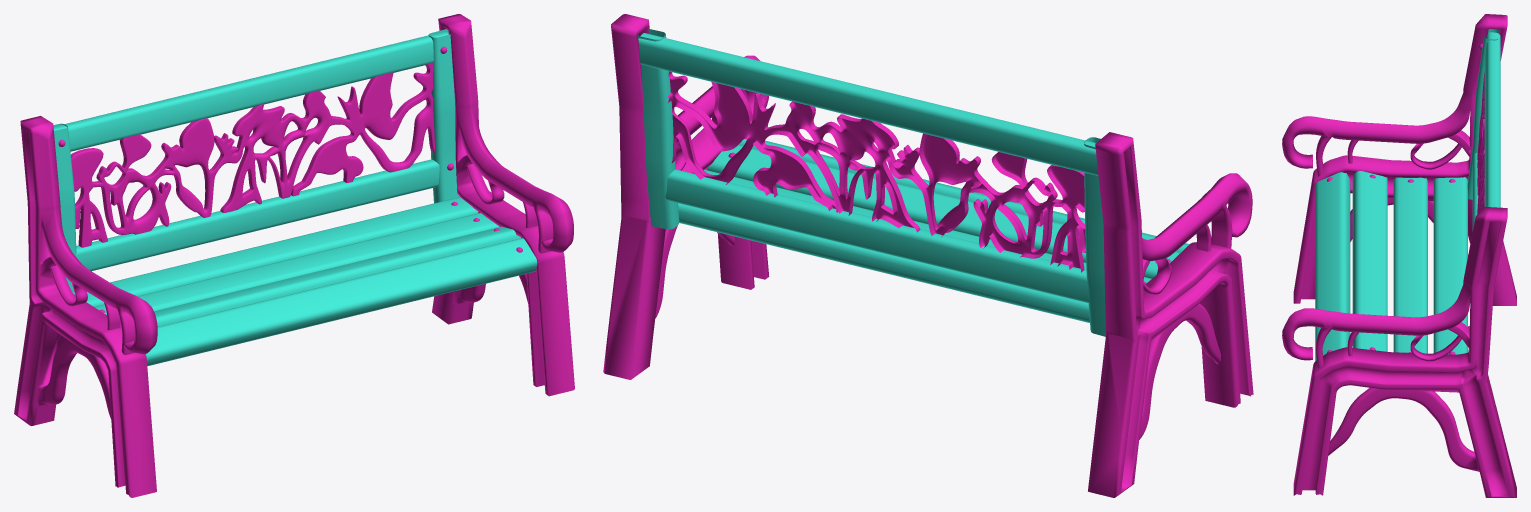
Rendered from bank tuin.fbx.
3 renders of one model, left to right at view 1: azimuth 30°, elevation 25°; view 2: azimuth 150°, elevation 25°; view 3: azimuth 270°, elevation 25°, orthographic. The views are drawn at different scales.
Parts seen in each view (by area): view 1: Cube.001, Cube; view 2: Cube.001, Cube; view 3: Cube.001, Cube.
Part boxes in pixels (x1,y1,x2,y2): Cube.001: (14, 14, 574, 497); Cube: (53, 29, 537, 366); Cube.001: (603, 14, 1253, 497); Cube: (638, 29, 1189, 336); Cube.001: (1282, 14, 1516, 497); Cube: (1315, 29, 1500, 360).
Bounding box in the file's own units: 220 × 141 × 106.
